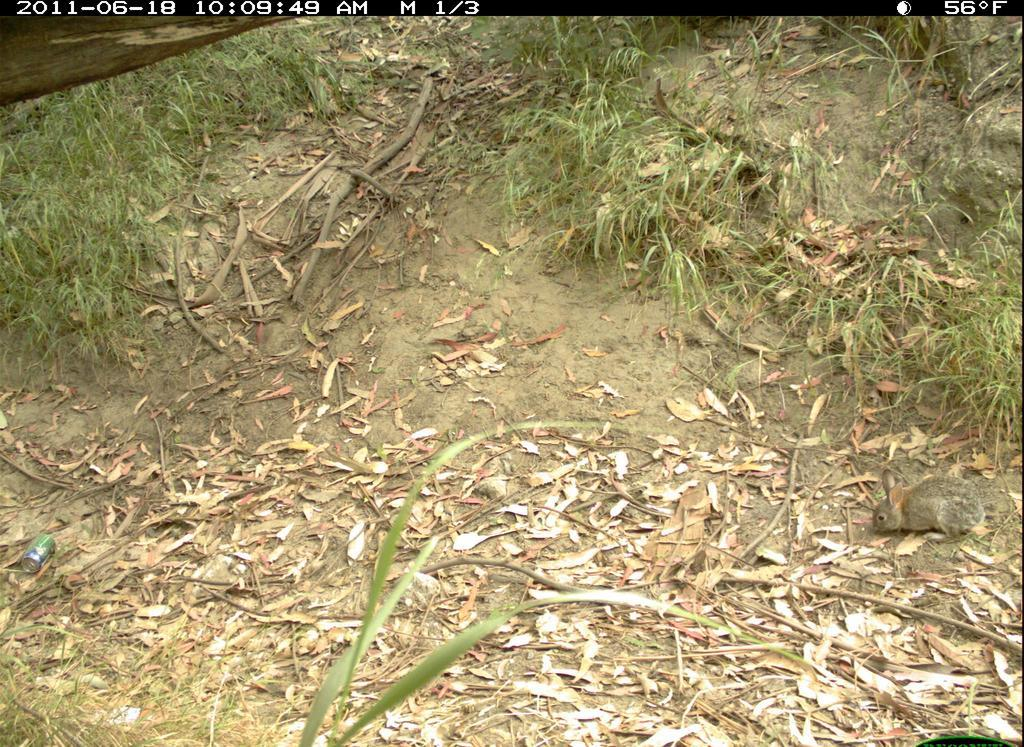rabbit: (843, 445, 999, 561)
